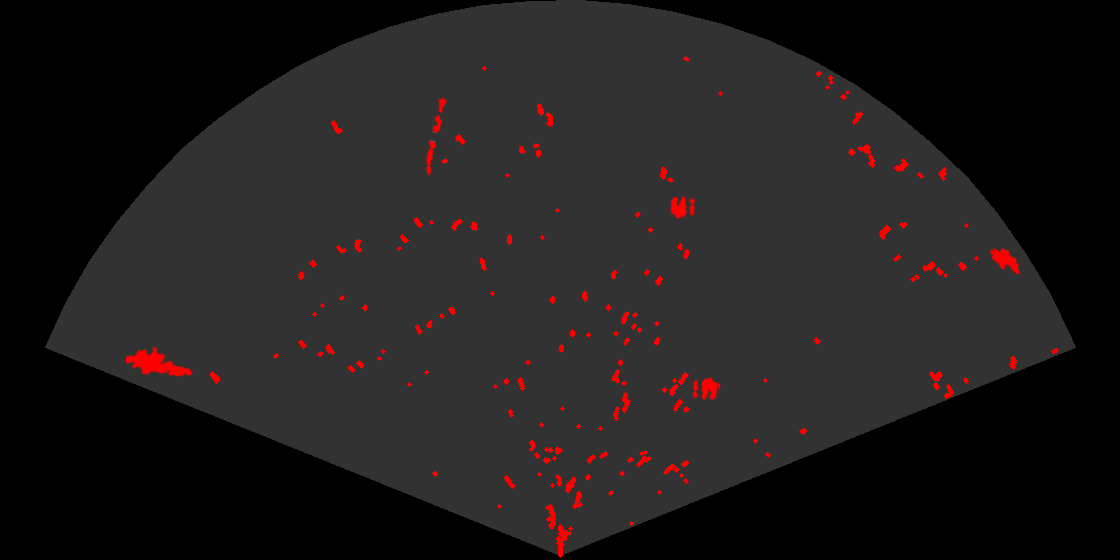AUV: (988, 246, 1022, 276)
ball: (669, 194, 697, 221), (691, 376, 719, 402)
chain: (424, 93, 448, 177)
frogman: (126, 345, 193, 378)
